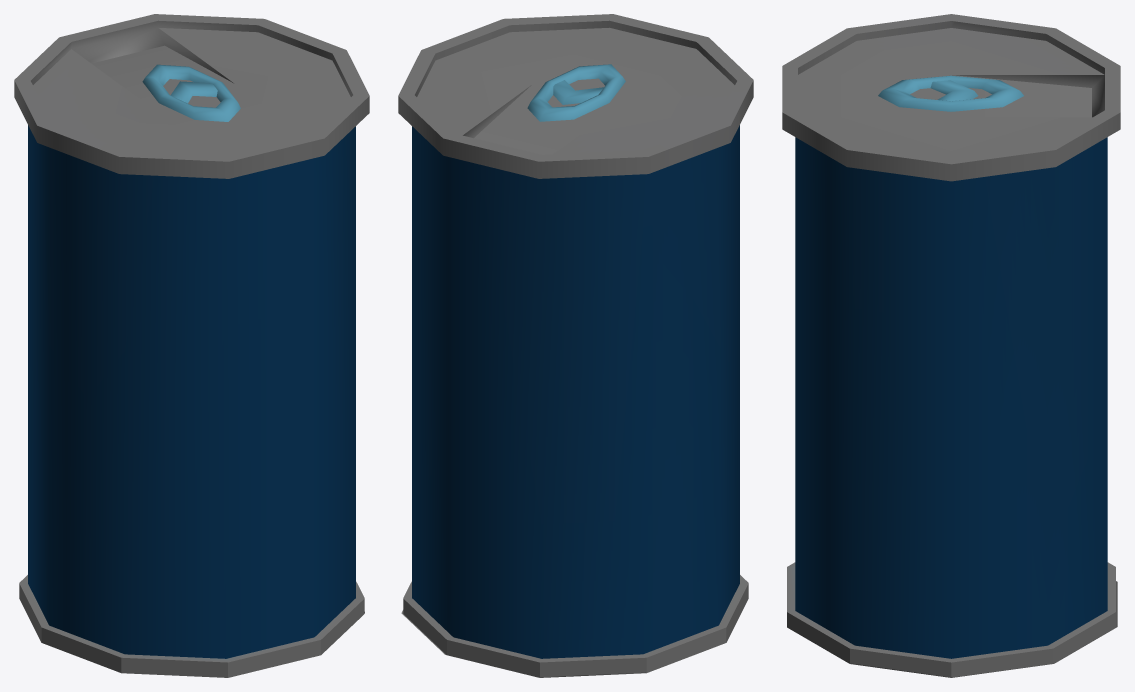
The model's file is SodaCan.fbx.
The picture shows the model from 3 angles, left to right: view 1: azimuth 30°, elevation 25°; view 2: azimuth 150°, elevation 25°; view 3: azimuth 270°, elevation 25°; orthographic projection.
Visible parts, largest first — view 1: SodaCan; view 2: SodaCan; view 3: SodaCan.
Part boxes in pixels (x1=…): SodaCan: x1=14, y1=14, x2=369, y2=677; SodaCan: x1=398, y1=14, x2=753, y2=677; SodaCan: x1=782, y1=14, x2=1120, y2=677.
Bounding box in the file's own units: 9.7 × 15.53 × 9.22.
